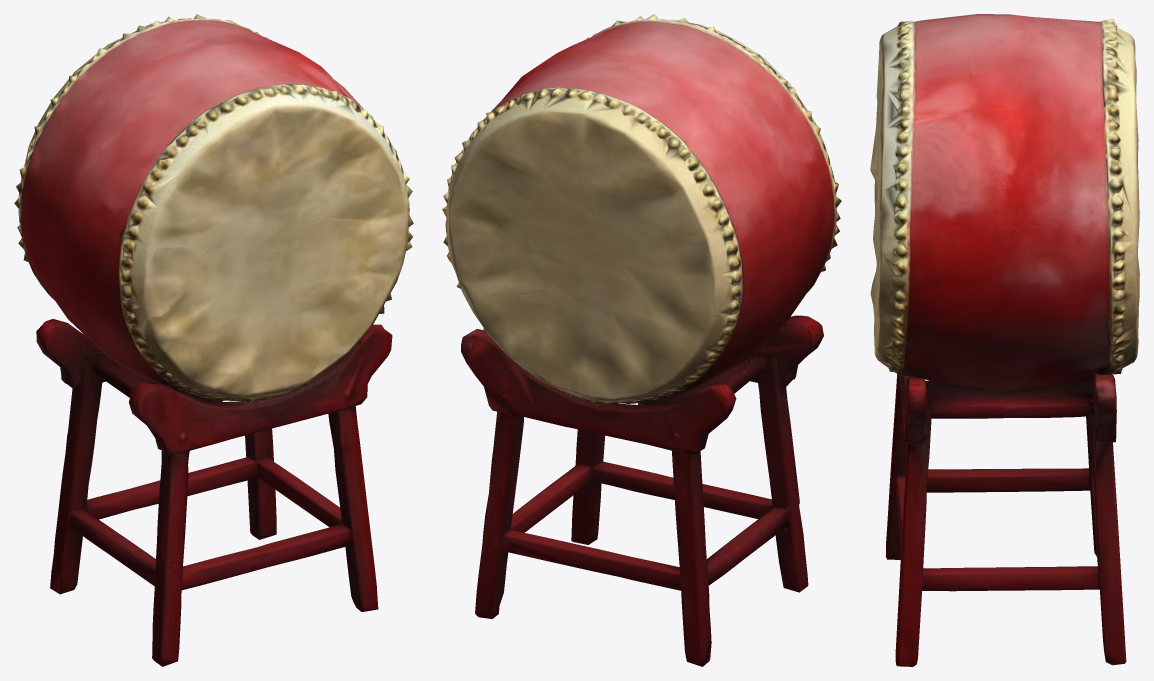
The model's file is drum-mid.glb.
3 renders of one model, left to right at view 1: azimuth 30°, elevation 25°; view 2: azimuth 150°, elevation 25°; view 3: azimuth 270°, elevation 25°, orthographic. The views are drawn at different scales.
Bounding box in the file's own units: 0.5917 × 0.9996 × 0.4216.
Materials: 1 (1 with a texture image).
